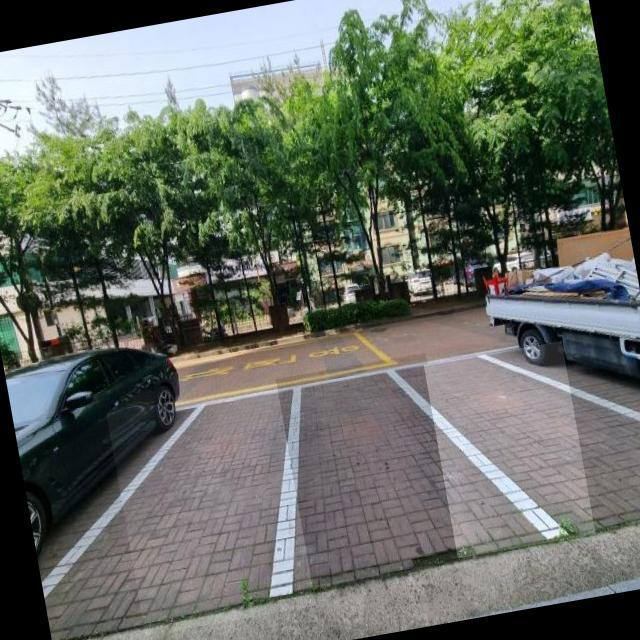empty: (106, 382, 317, 635), (276, 352, 462, 586), (424, 340, 596, 558)
